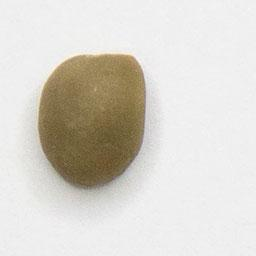premium: (35, 50, 150, 189)
